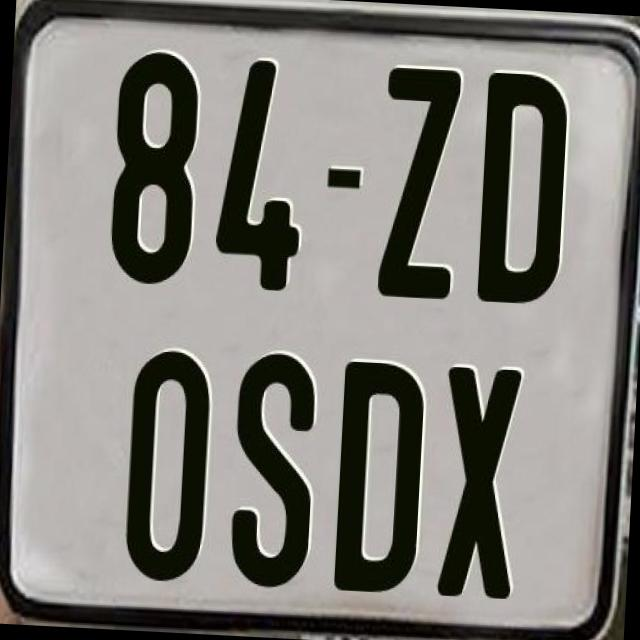0: (120, 343, 212, 588)
4: (210, 56, 314, 292)
8: (104, 48, 200, 289)
D: (475, 67, 575, 306), (330, 361, 424, 600)
S: (226, 348, 318, 586)
X: (435, 363, 527, 604)
Z: (374, 67, 462, 300)
